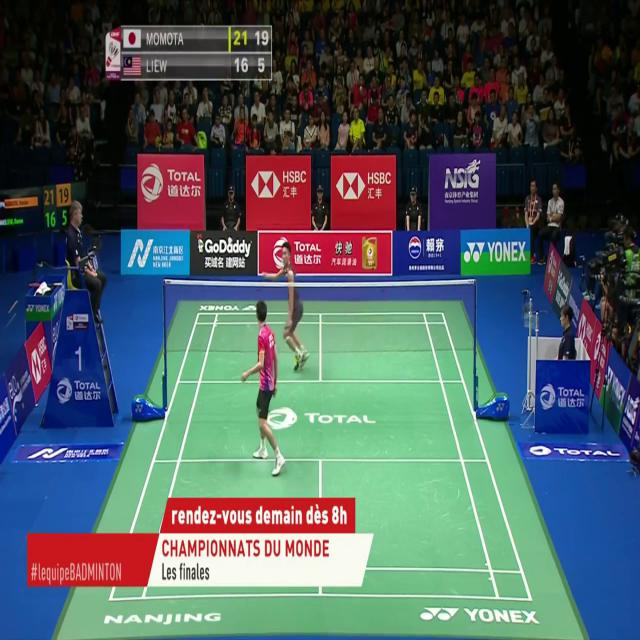Shuttlecock: (227, 234, 233, 246)
